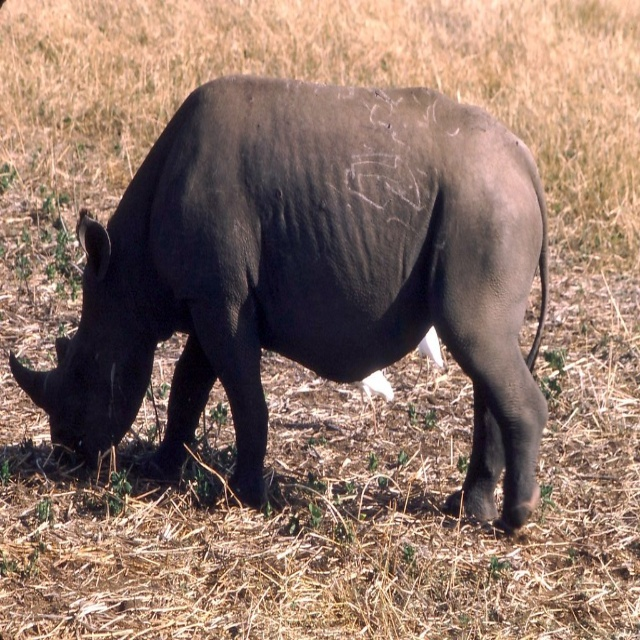Rhinoceros: (5, 71, 563, 536)
